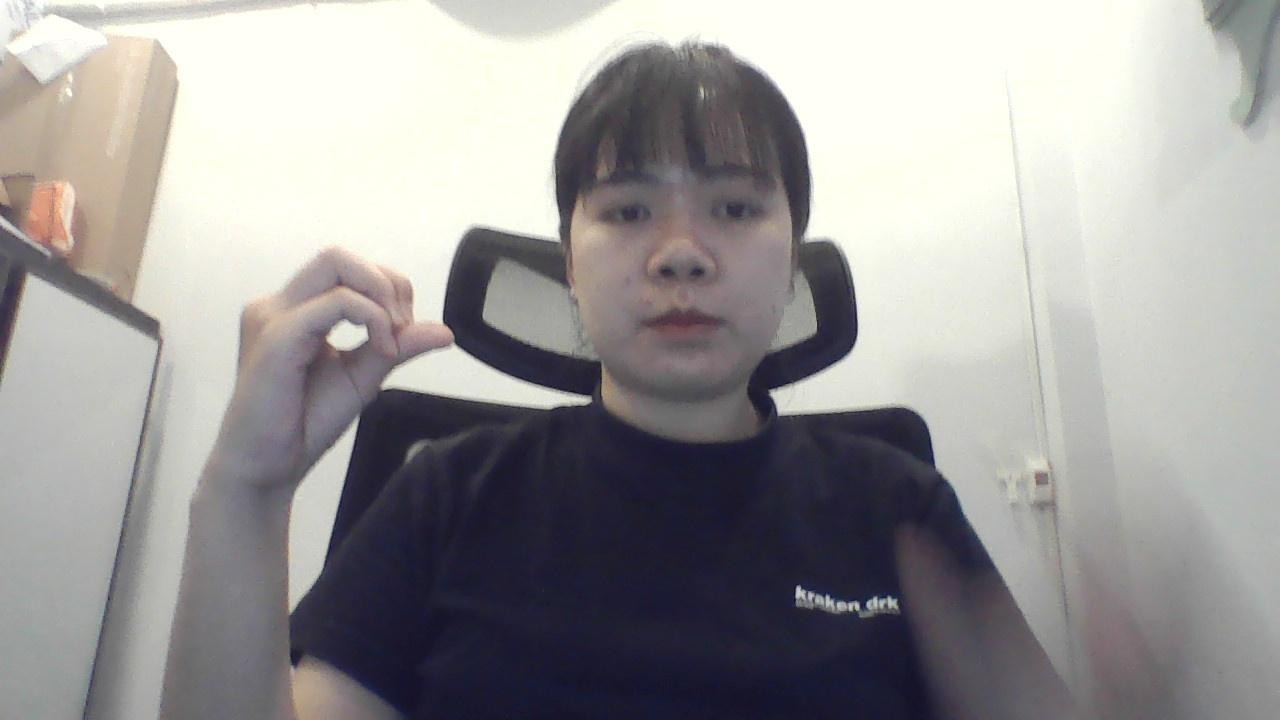G: (200, 236, 462, 485)
